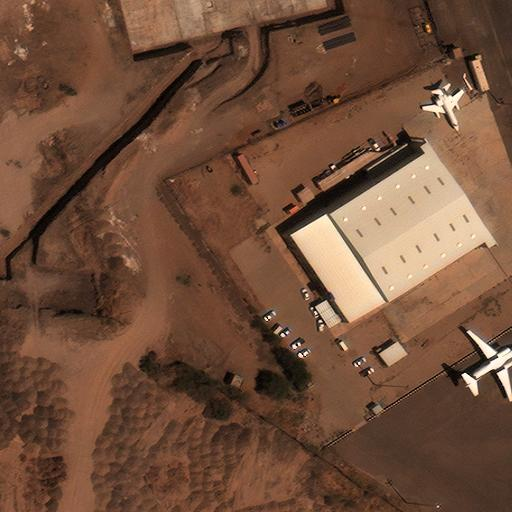Medium Civil Transport: (423, 87, 464, 131)
Military Transport: (465, 329, 512, 399)
